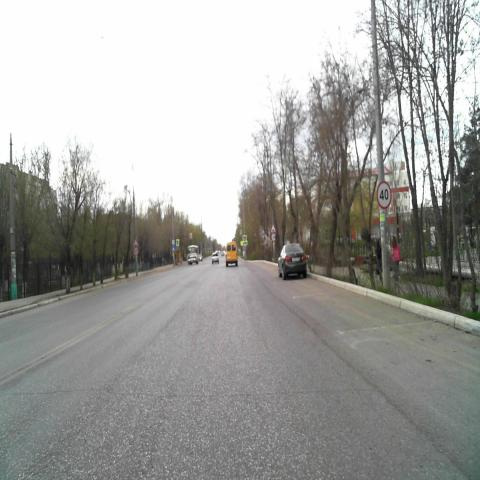1_17: (134, 237, 138, 246)
3_24: (376, 180, 392, 210), (134, 247, 138, 255)
